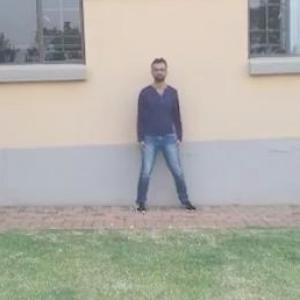follow: (134, 55, 181, 215)
